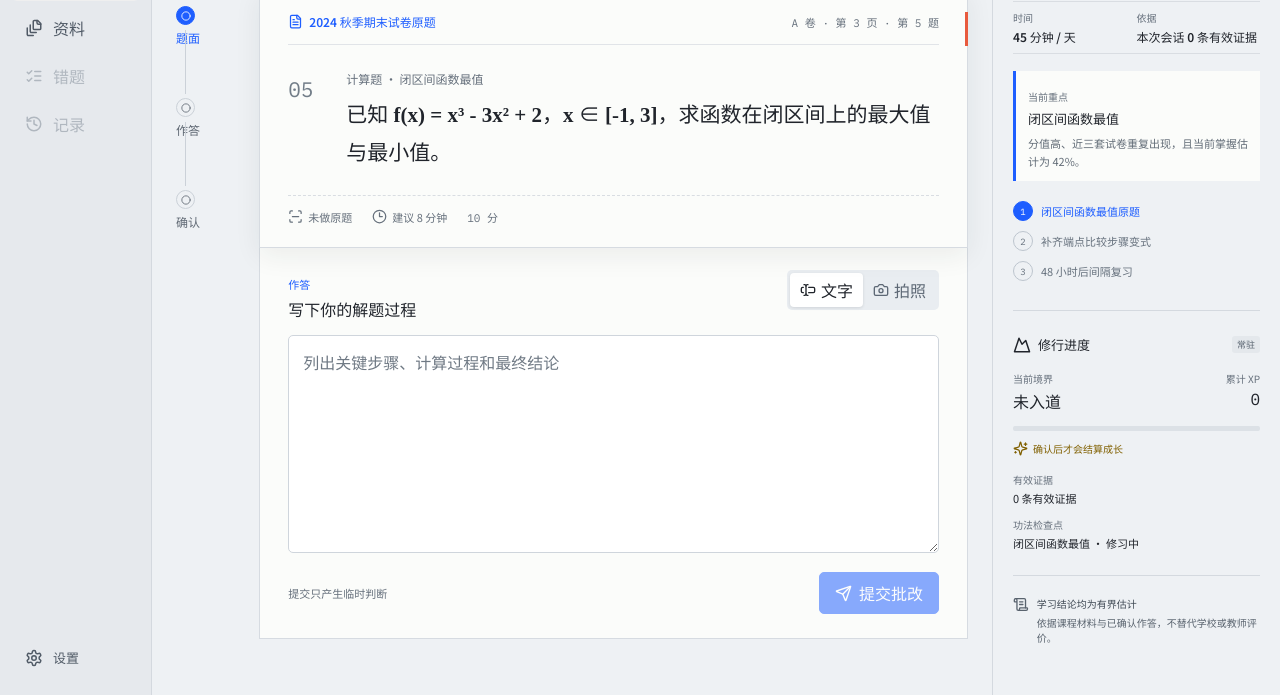
Test case: StudyPage › keeps provisional diagnosis non-effective until confirmation
(page scrolled)
Step 1. Type "求导得到驻点 x=0 和 x=2，代入后最大值为 2，最小值为 -2。" into the text box named "文字答案" → (614, 444), box [288, 335, 939, 553]
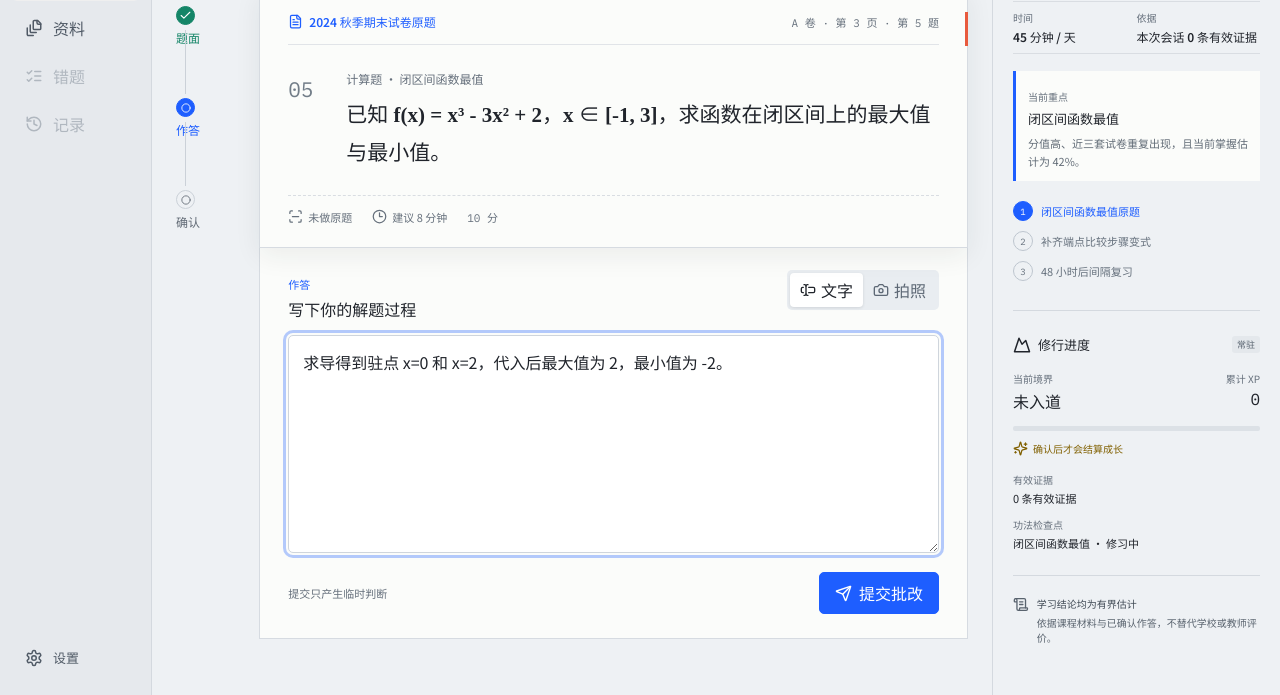
Step 2. Click the button "提交批改" → click(879, 593), box [819, 572, 939, 614]
(page scrolled)
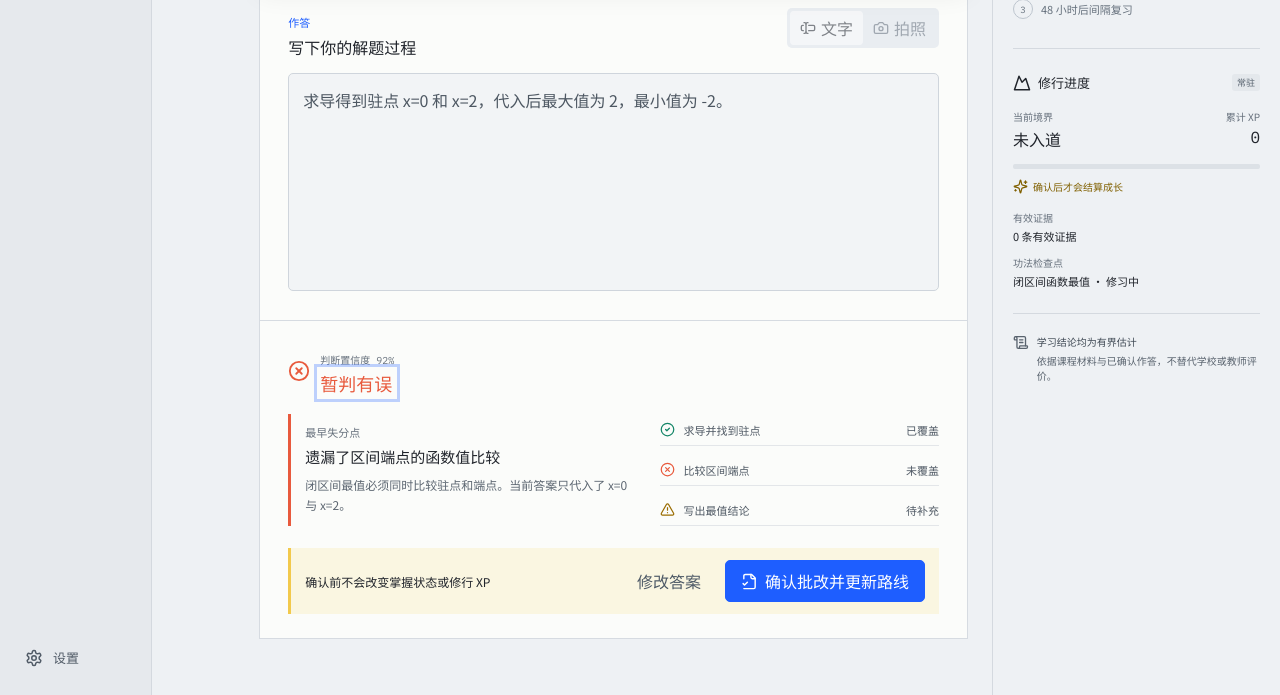
expect the heading "暂判有误" is shown: met, box [320, 370, 394, 396]
expect the text "遗漏了区间端点的函数值比较" is shown: met, box [305, 446, 500, 467]
expect the text "确认前不会改变掌握状态或修行 XP" is shown: met, box [305, 573, 490, 590]
Step 3. Click the button "确认批改并更新路线" → click(825, 581), box [725, 560, 925, 602]
(page scrolled)
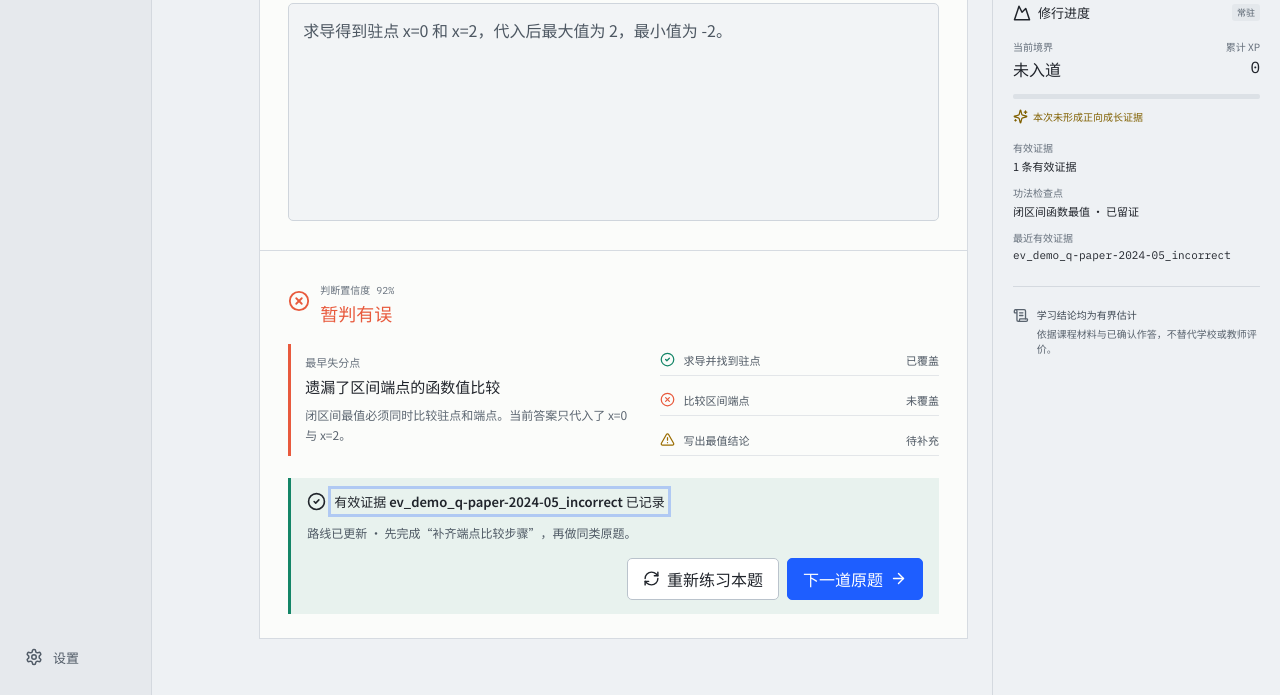
expect the heading "有效证据 ev_demo_q-paper-2024-05_incorrect 已记录" is shown: met, box [334, 492, 665, 511]
expect the text "路线已更新" is shown: met, box [307, 524, 367, 541]
